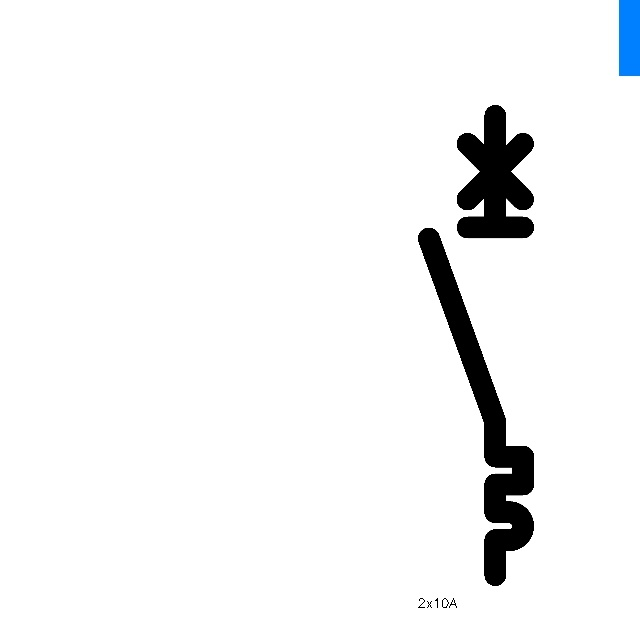interruptor_termomagnetico: (417, 104, 535, 587)
